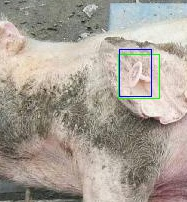text: (118, 54, 159, 98)
